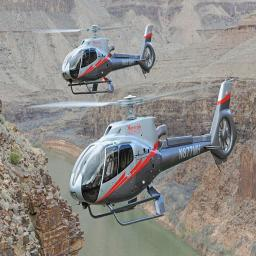helicopter: (66, 78, 249, 232), (60, 20, 160, 99)
